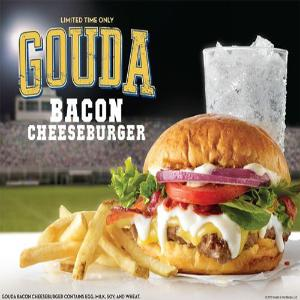cheeseburger: (155, 99, 298, 291)
fries: (18, 202, 172, 289)
